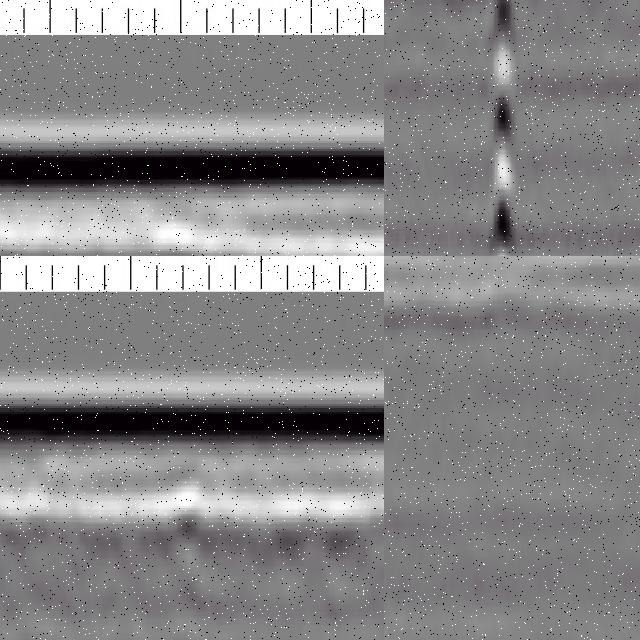crack: (487, 1, 515, 257)
loose: (1, 504, 86, 640)
